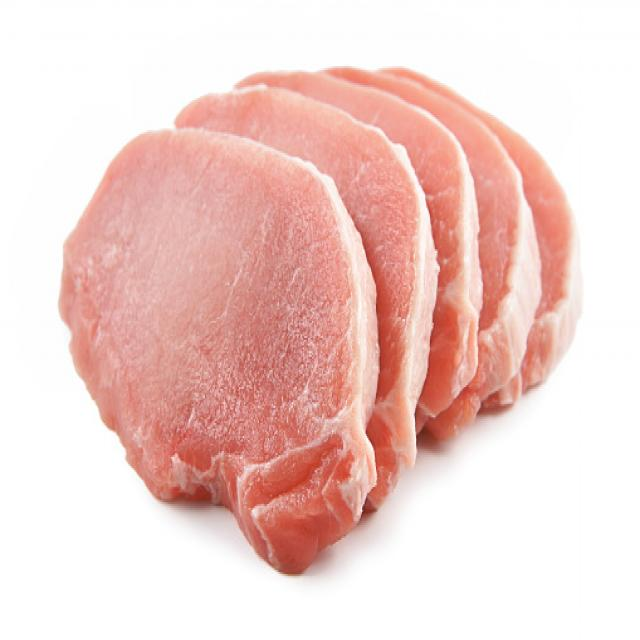Pork: (59, 128, 380, 574), (176, 87, 439, 511), (251, 72, 484, 429), (382, 74, 543, 439), (413, 74, 583, 390)
